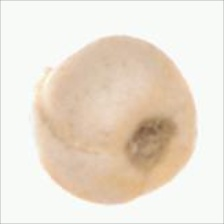L4: (33, 34, 198, 205)
